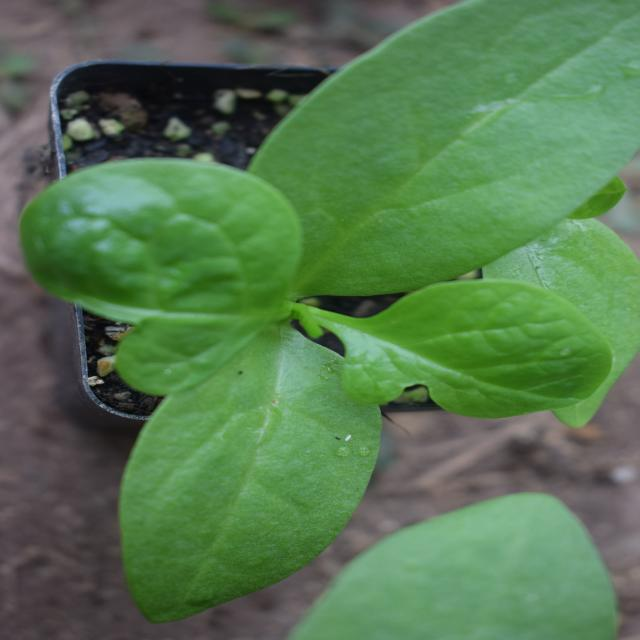Ceylon spinach: (5, 1, 608, 609)
